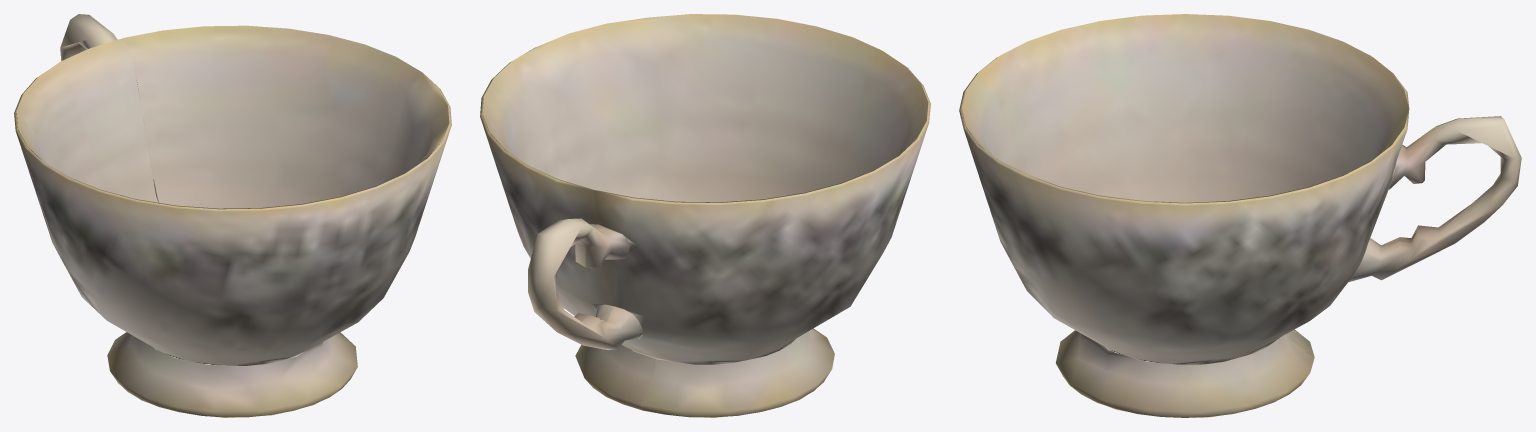
The model's file is teacup.glb.
The picture shows the model from 3 angles, left to right: view 1: azimuth 30°, elevation 25°; view 2: azimuth 150°, elevation 25°; view 3: azimuth 270°, elevation 25°; orthographic projection. The views are drawn at different scales.
Parts seen in each view (by area): view 1: tea_set_01_cup_small_01; view 2: tea_set_01_cup_small_01; view 3: tea_set_01_cup_small_01.
Part boxes in pixels (box(x1,y1,x2,y2)): tea_set_01_cup_small_01: box(14, 14, 451, 417); tea_set_01_cup_small_01: box(480, 14, 930, 417); tea_set_01_cup_small_01: box(959, 14, 1521, 417).
Size of the model in its own units: 0.1068 by 0.0677 by 0.1329.
1 material, 1 textured.
